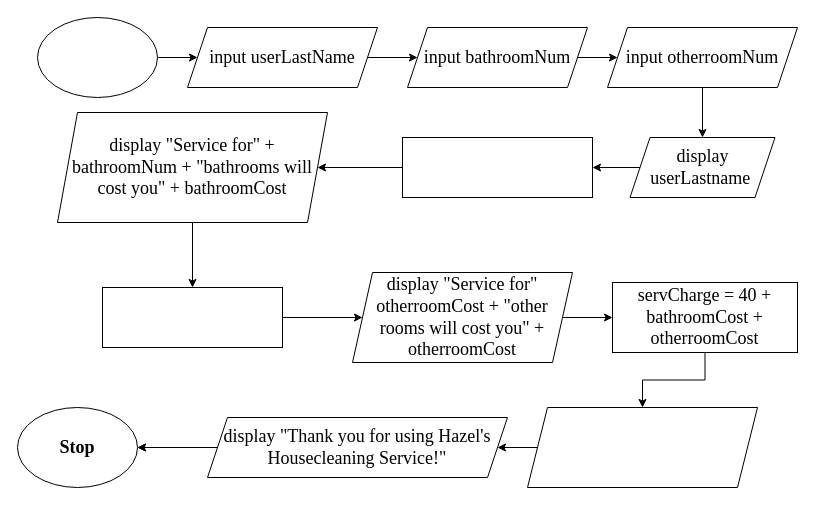
Image size: 815x505. Some labels were removed from this diagram. The box of each missing label's shape, as (x1, y1, x2, y2) in pixels:
bathroomCost = bathroomNum * 15: (402, 136, 592, 198)
display "The final cost for everthing will be" + servCharge: (526, 406, 758, 488)
otherroomCost = otherroomNum * 10: (102, 286, 282, 348)
Start: (36, 16, 158, 98)
